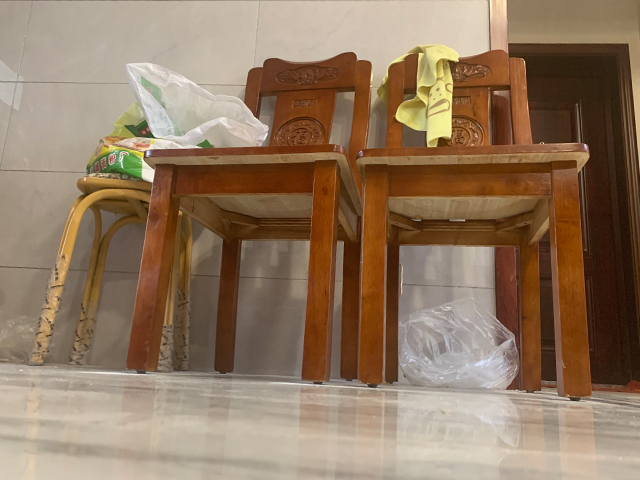stool: (354, 49, 593, 402), (125, 51, 372, 384), (30, 176, 192, 373)
